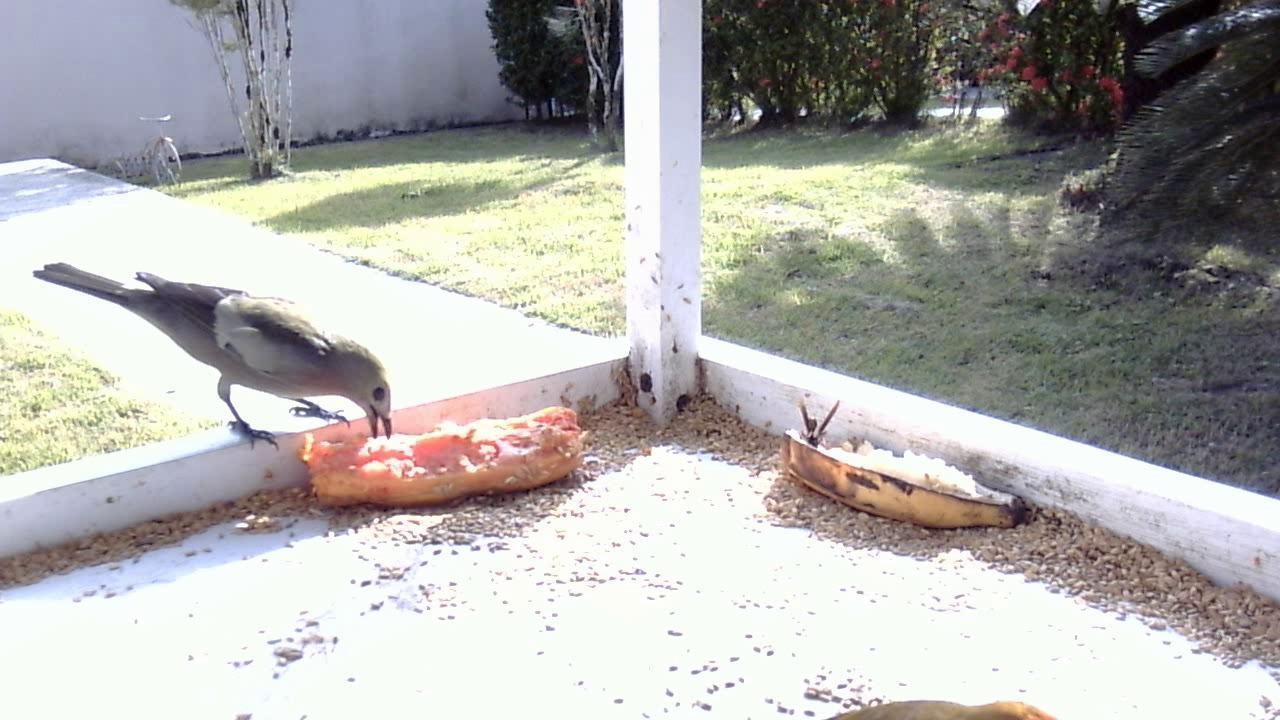sanhaco_do_coqueiro: (25, 253, 398, 464)
